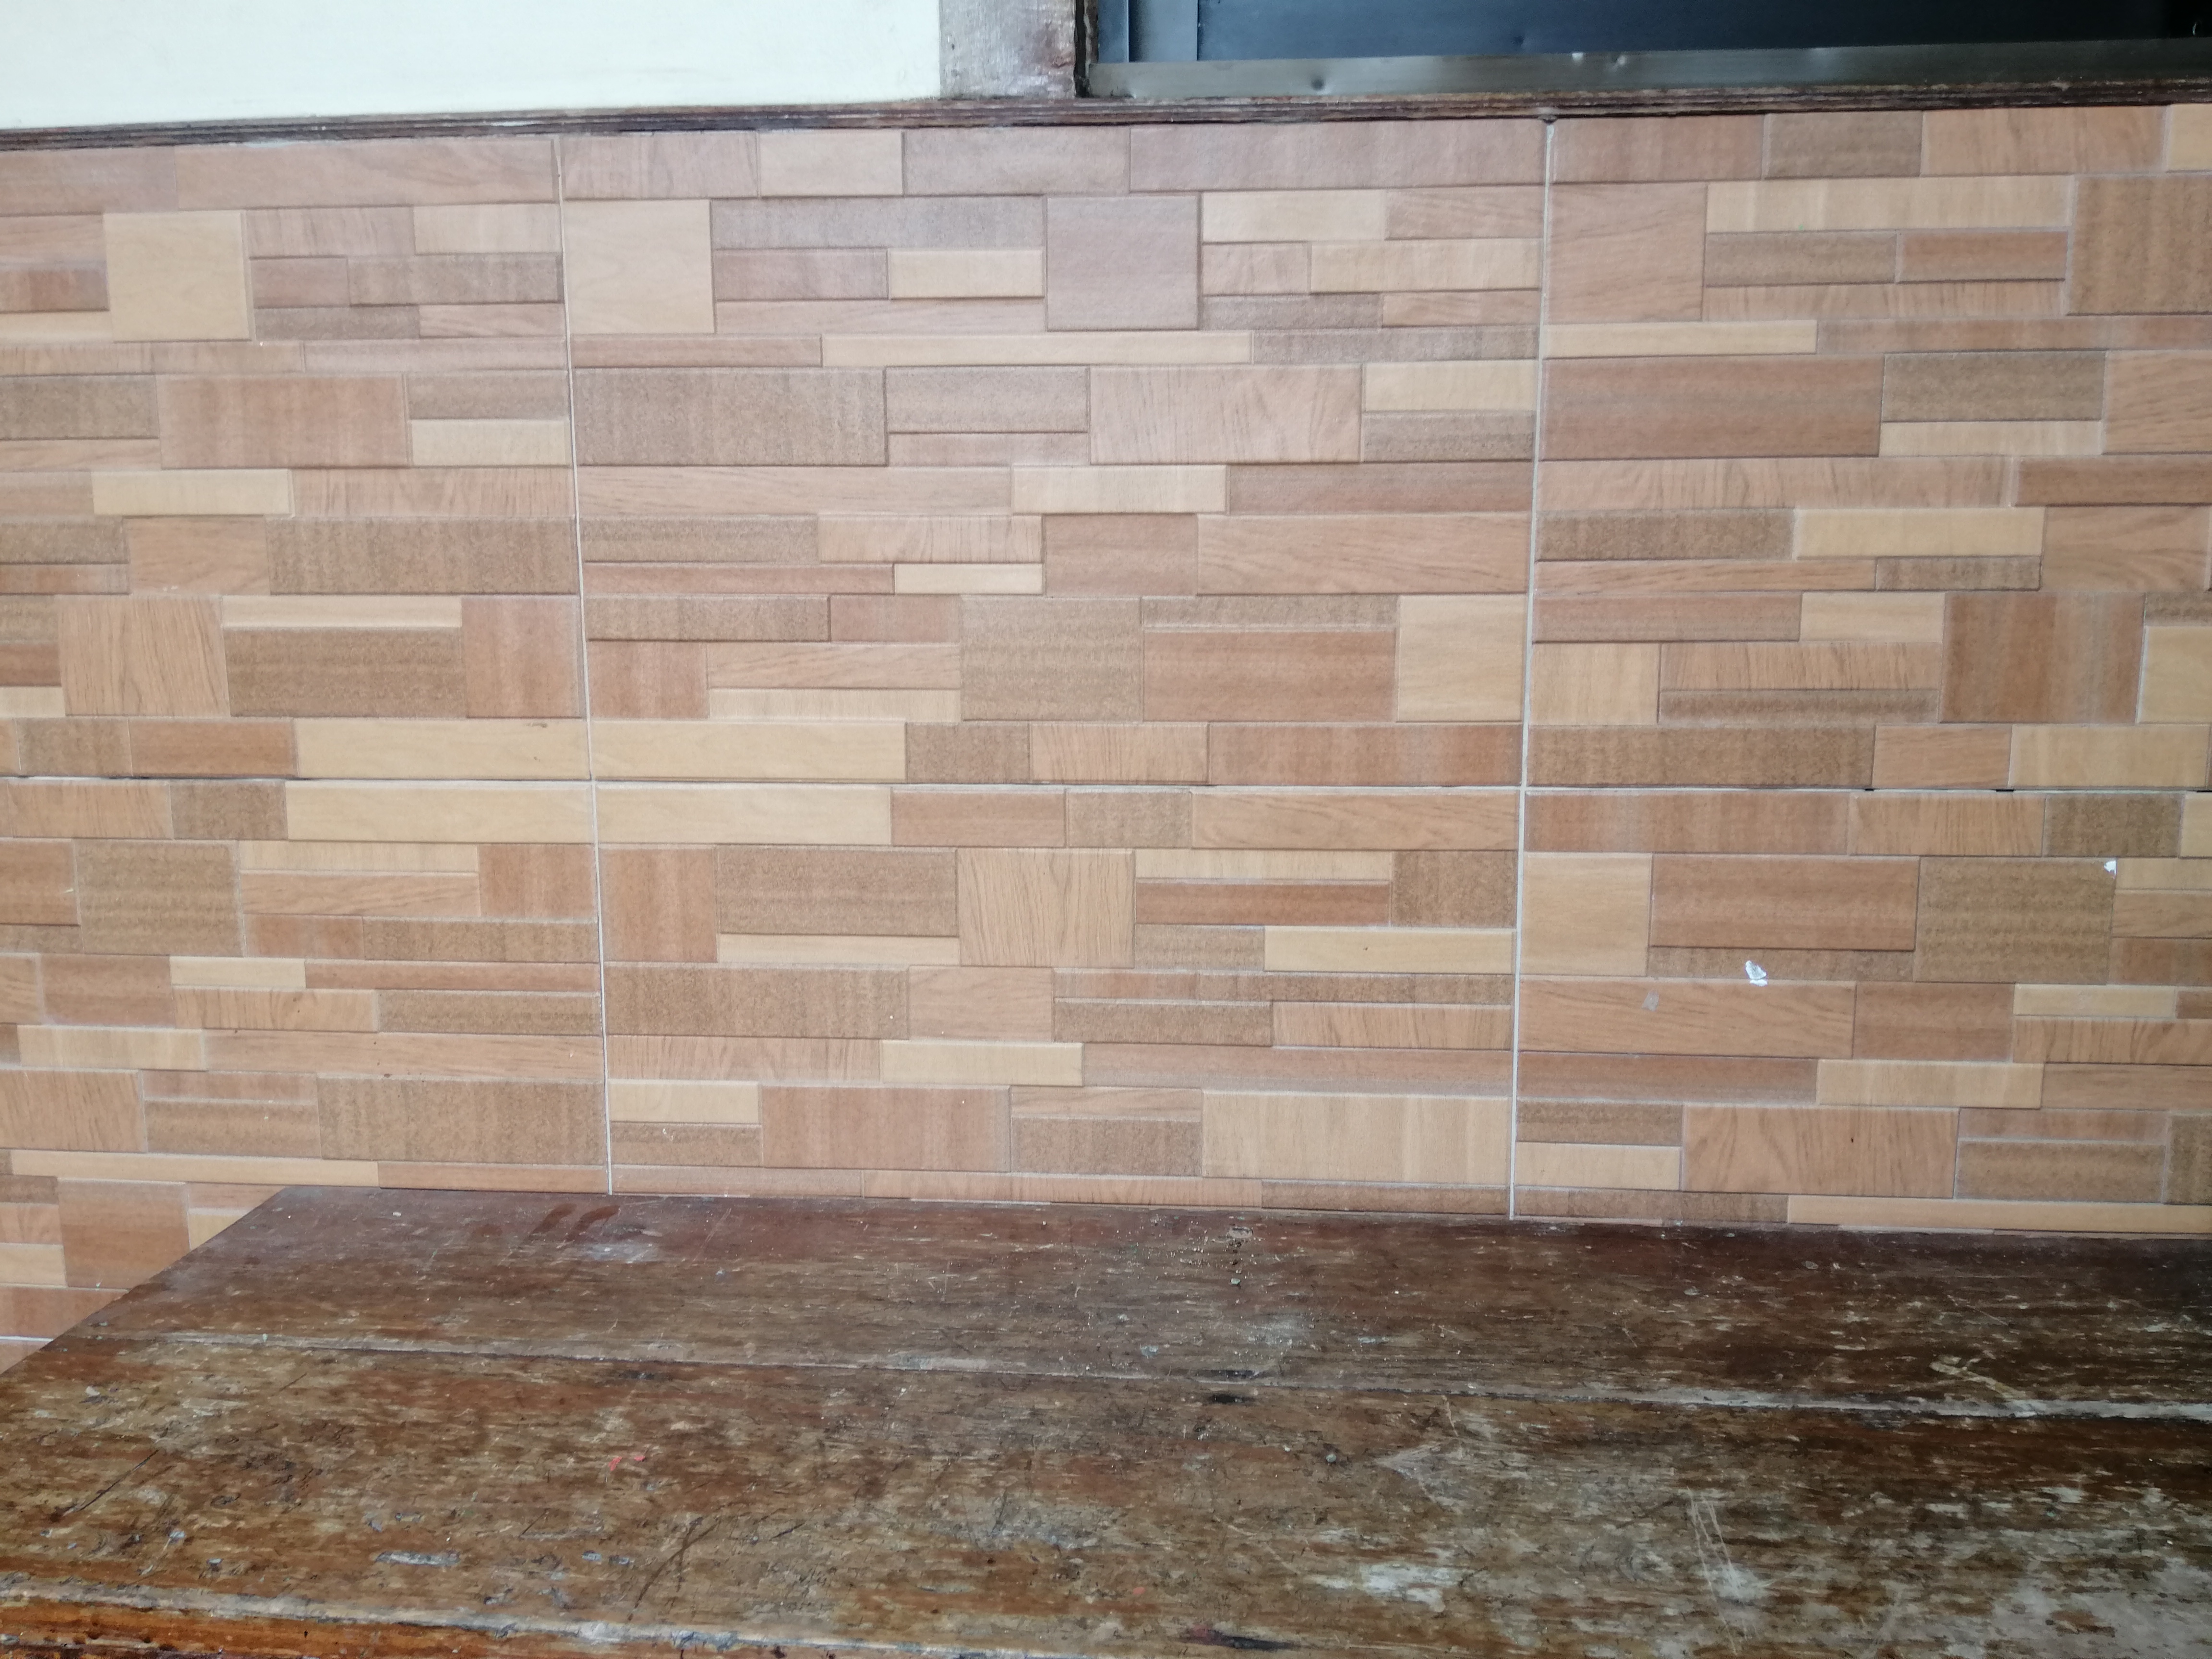wall: (7, 150, 2212, 1237)
